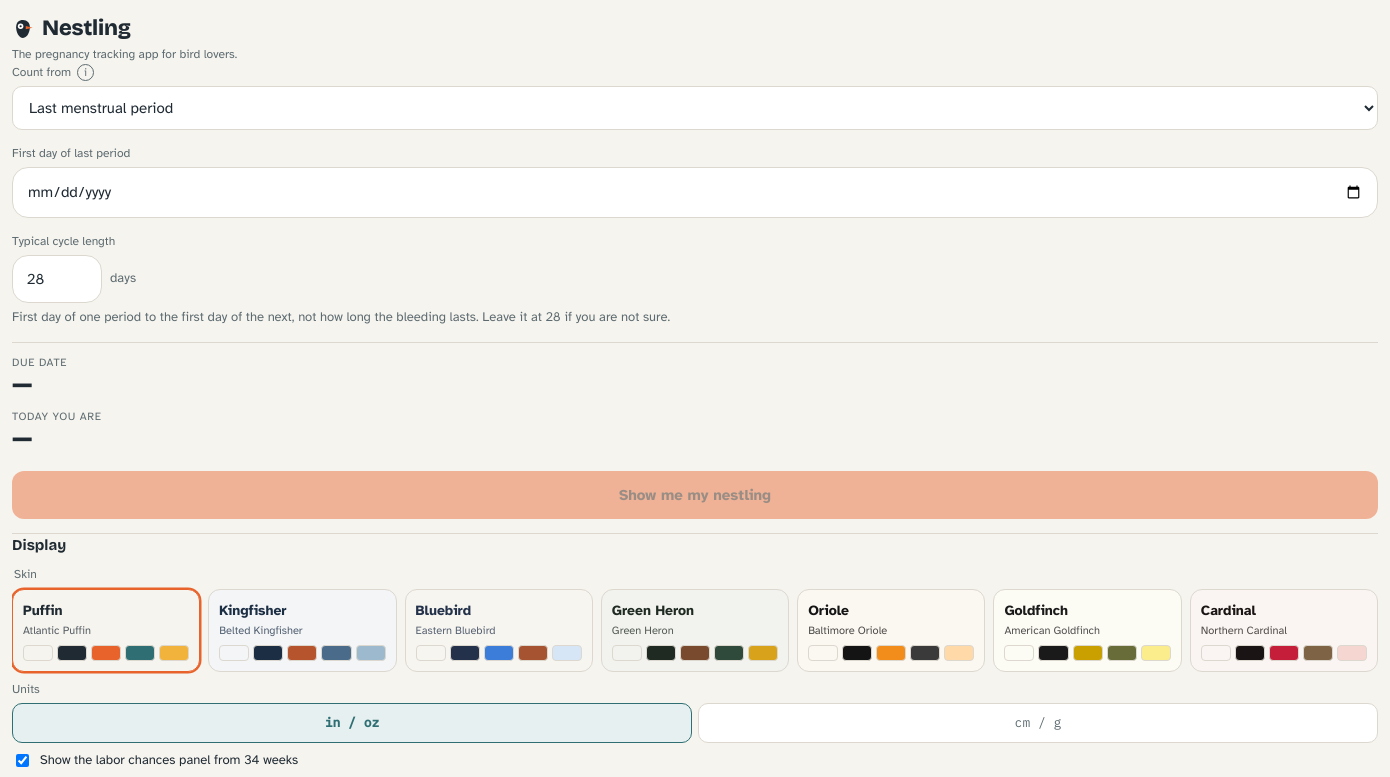
Test case: Setup screen (mockup 1) › blocks the button on an empty, future, or too-old date
This screenshot has width=1390, height=777.
Expected: the button "Show me my nestling" is disabled, x1=12 y1=470 x2=1378 y2=519
Type "2026-09-07" into the date field labelled "First day of last period" at x=695, y=192, box x1=12 y1=167 x2=1378 y2=218
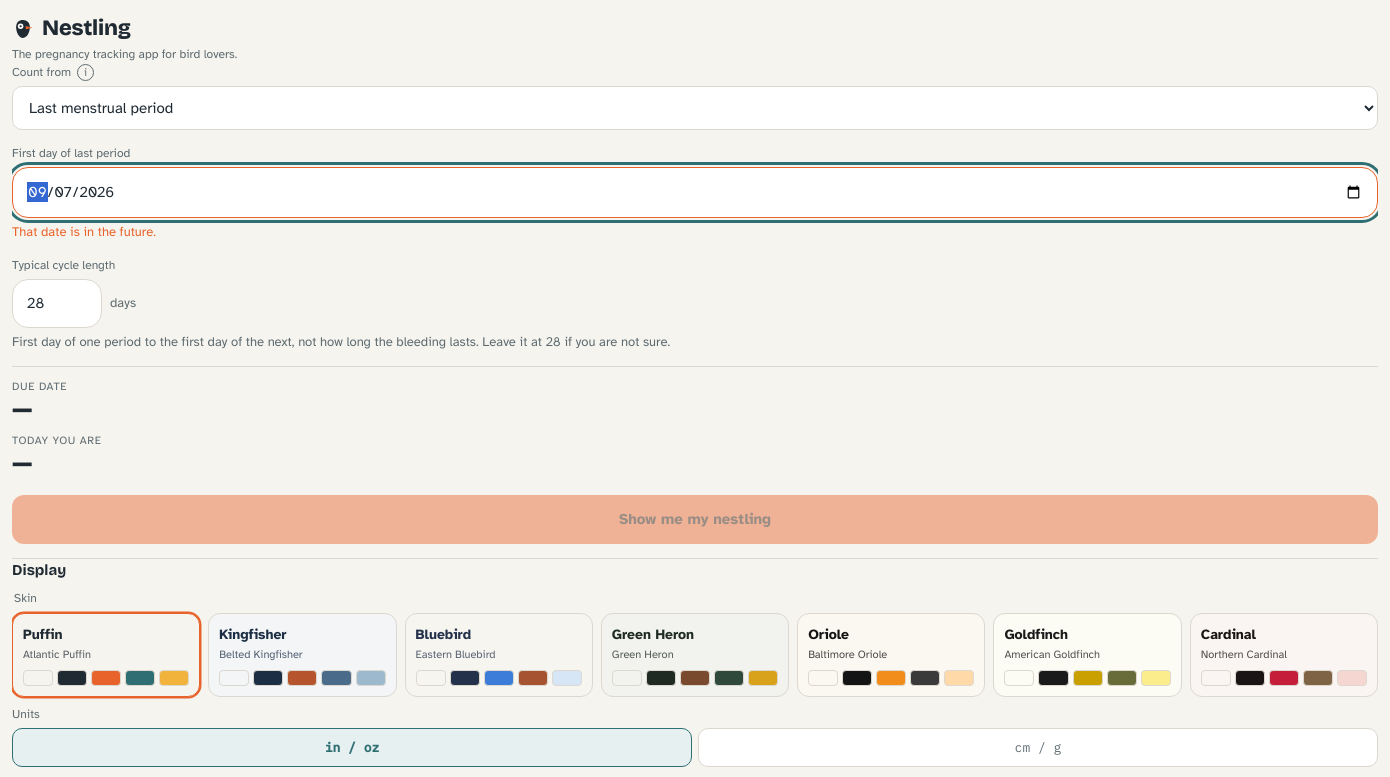
Expected: the button "Show me my nestling" is disabled, x1=12 y1=495 x2=1378 y2=544
Expected: the message reads "That date is in the future.", x1=12 y1=224 x2=156 y2=240
Type "2025-11-09" into the date field labelled "First day of last period" at x=695, y=192, box x1=12 y1=167 x2=1378 y2=218
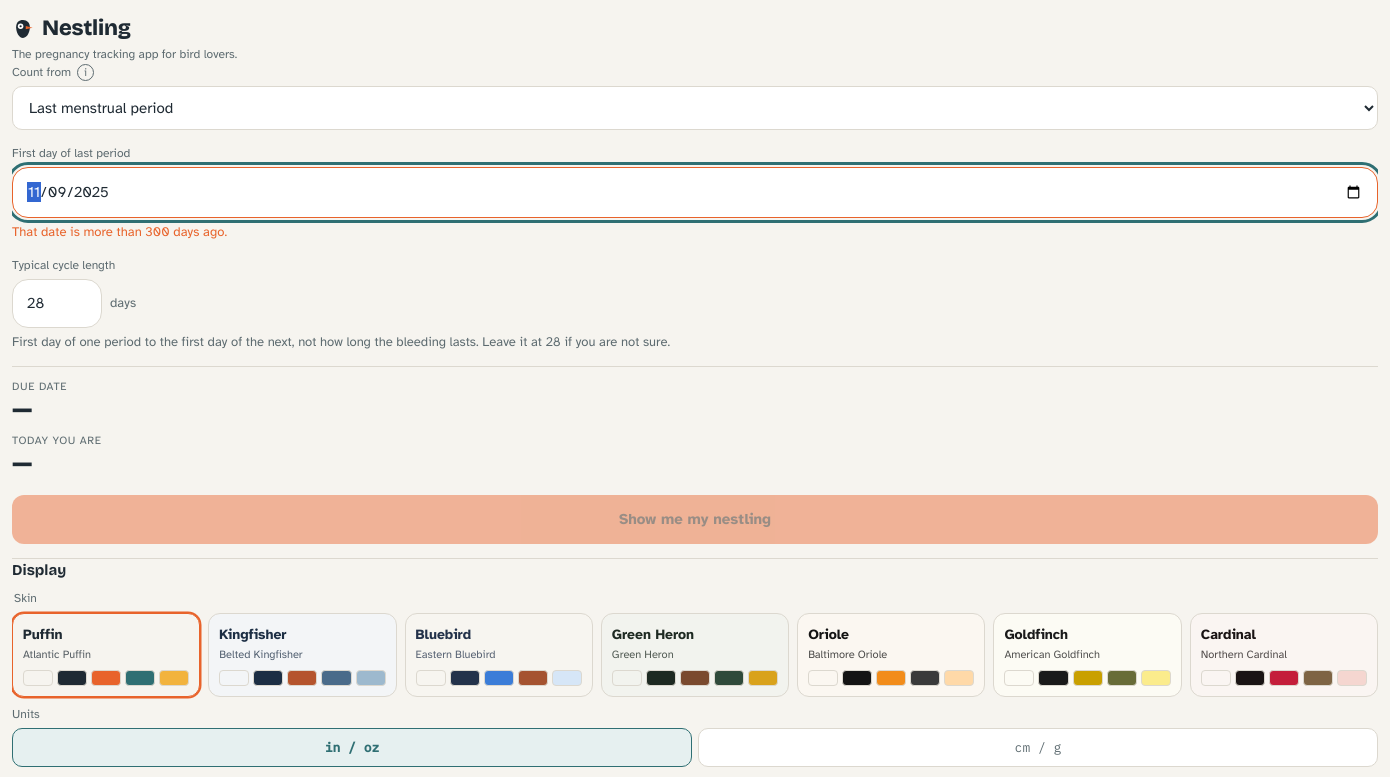
Expected: the button "Show me my nestling" is disabled, x1=12 y1=495 x2=1378 y2=544
Expected: the message shows "more than 300 days ago", x1=12 y1=224 x2=227 y2=240
Type "2026-03-29" into the date field labelled "First day of last period" at x=695, y=192, box x1=12 y1=167 x2=1378 y2=218
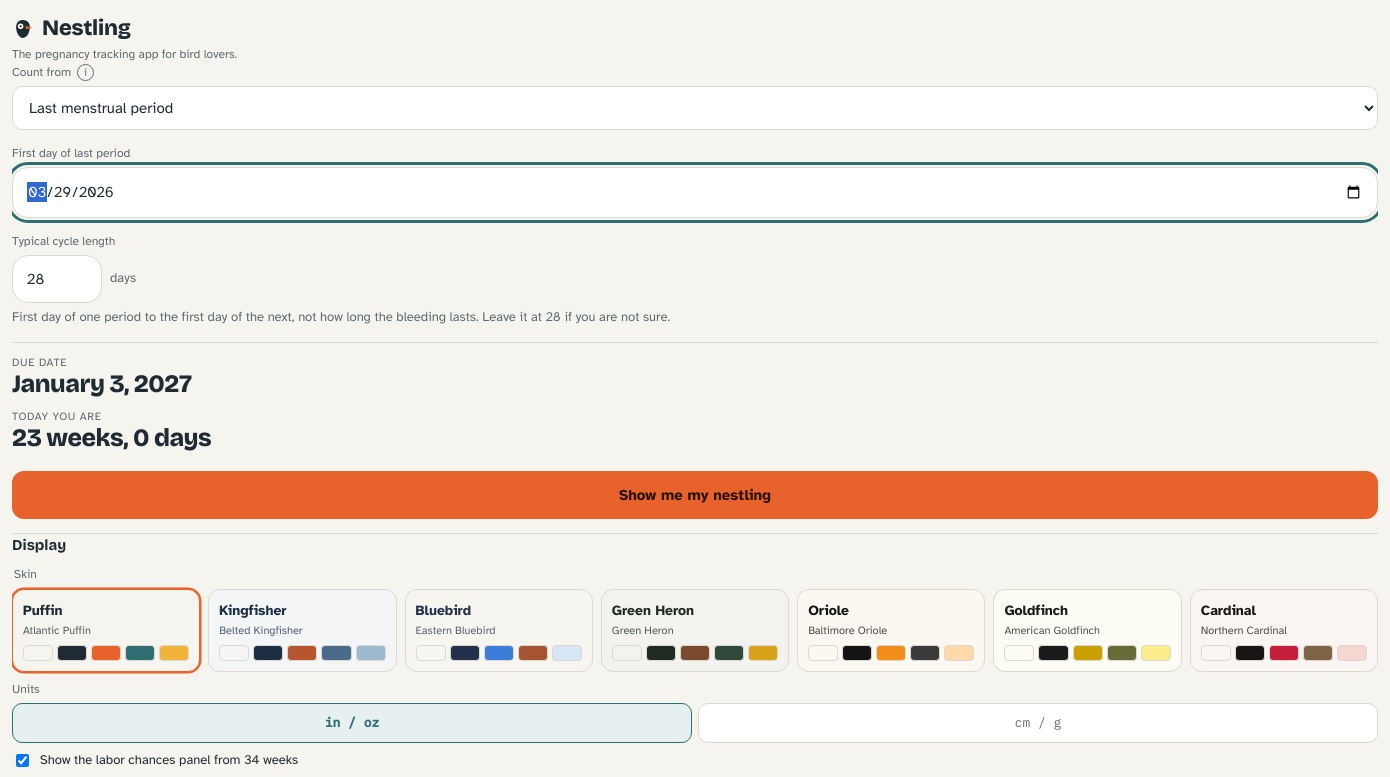
Expected: the message "That date is more than 300 days ago." is not shown
Expected: the button "Show me my nestling" is enabled, x1=12 y1=470 x2=1378 y2=519
